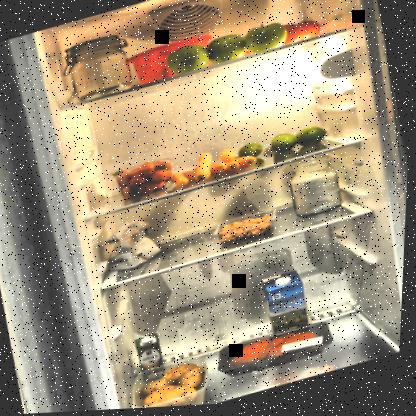apple: (164, 18, 295, 82)
beef: (216, 320, 342, 386)
butter: (125, 32, 220, 90)
carrot: (168, 141, 262, 193)
heavy_cream: (135, 335, 171, 386)
lime: (237, 125, 331, 169)
milk: (262, 269, 318, 344)
potato: (134, 353, 221, 409)
shrimp: (222, 214, 277, 250)
strawberries: (113, 153, 181, 206)
tomato: (274, 16, 326, 52)
